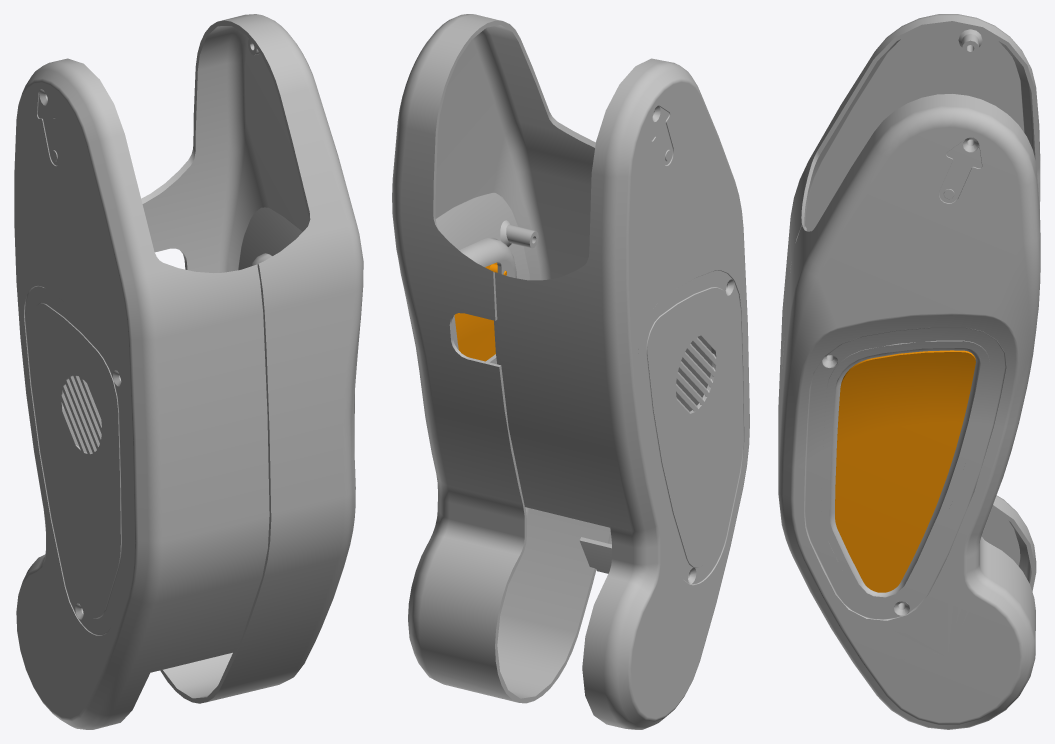
File: LUpperLeg.obj
3 renders of one model, left to right at view 1: azimuth 30°, elevation 25°; view 2: azimuth 150°, elevation 25°; view 3: azimuth 270°, elevation 25°, orthographic. The views are drawn at different scales.
Bounding box in the file's own units: 0.1529 × 0.4021 × 0.1525.
